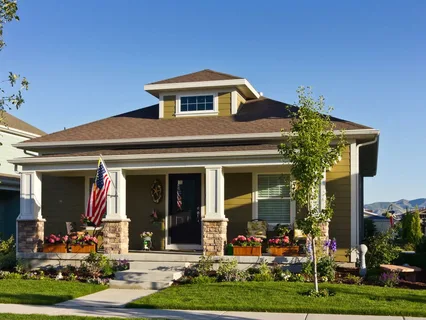private_hause: (22, 105, 366, 273)
